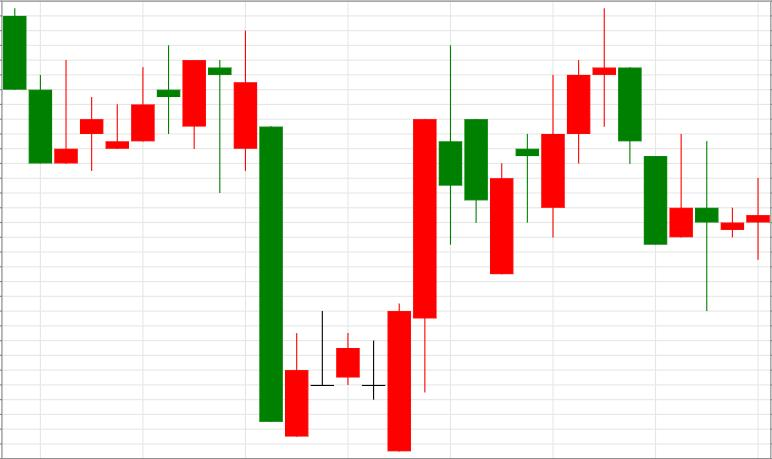evening_star_fall: (491, 8, 641, 274)
